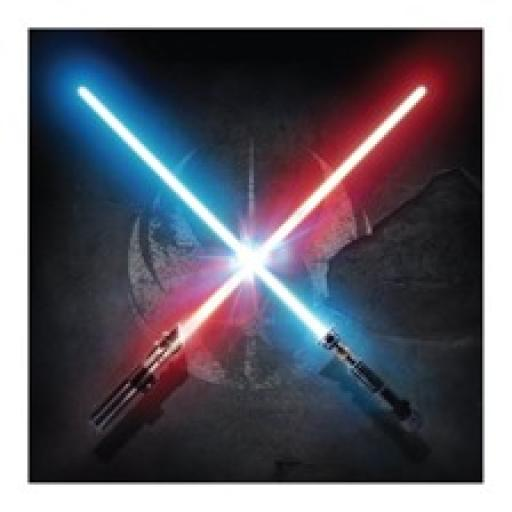lightsaber: (78, 85, 412, 423)
sith saber: (72, 82, 429, 446)
